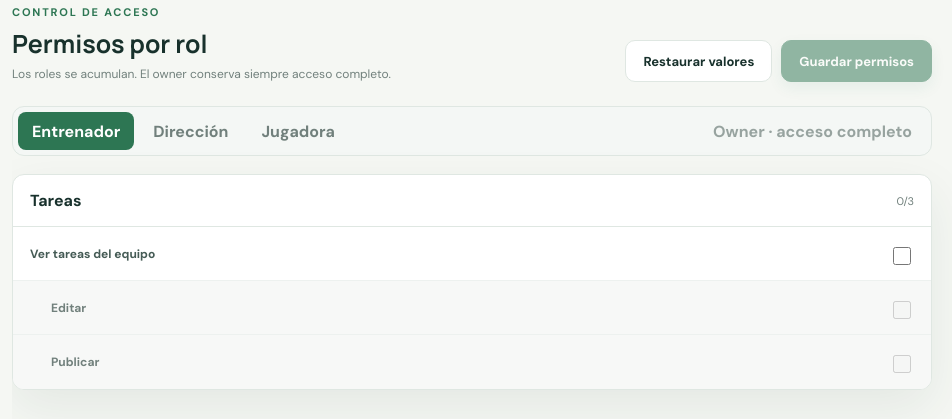
PermissionsSettingsView › disables child actions until their view permission is enabled
The image size is (952, 419).
Expected: the checkbox labelled "Editar" is disabled, [893,300,911,318]
What coordinates should you click on to do the following:
click the checkbox labelled "Ver tareas del equipo"
I would click on:
 (902, 256)
Its box is [893,246,911,264].
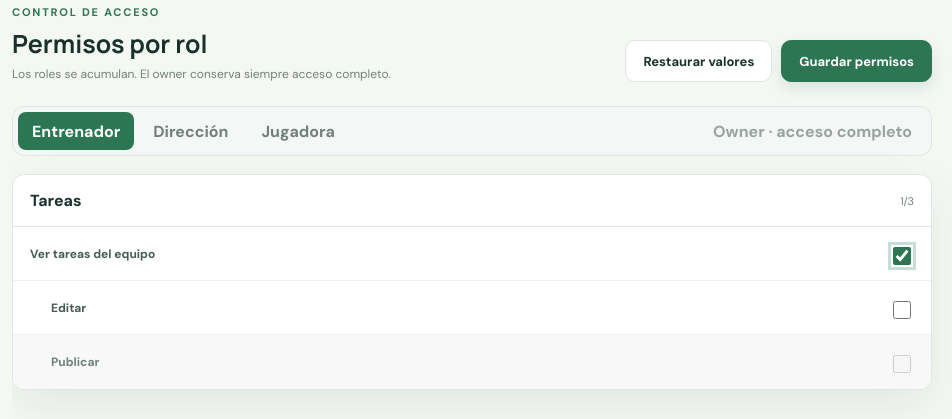
Expected: the checkbox labelled "Publicar" is disabled, [893,355,911,373]
Now the checkbox labelled "Editar" is enabled, box [893,300,911,318]
